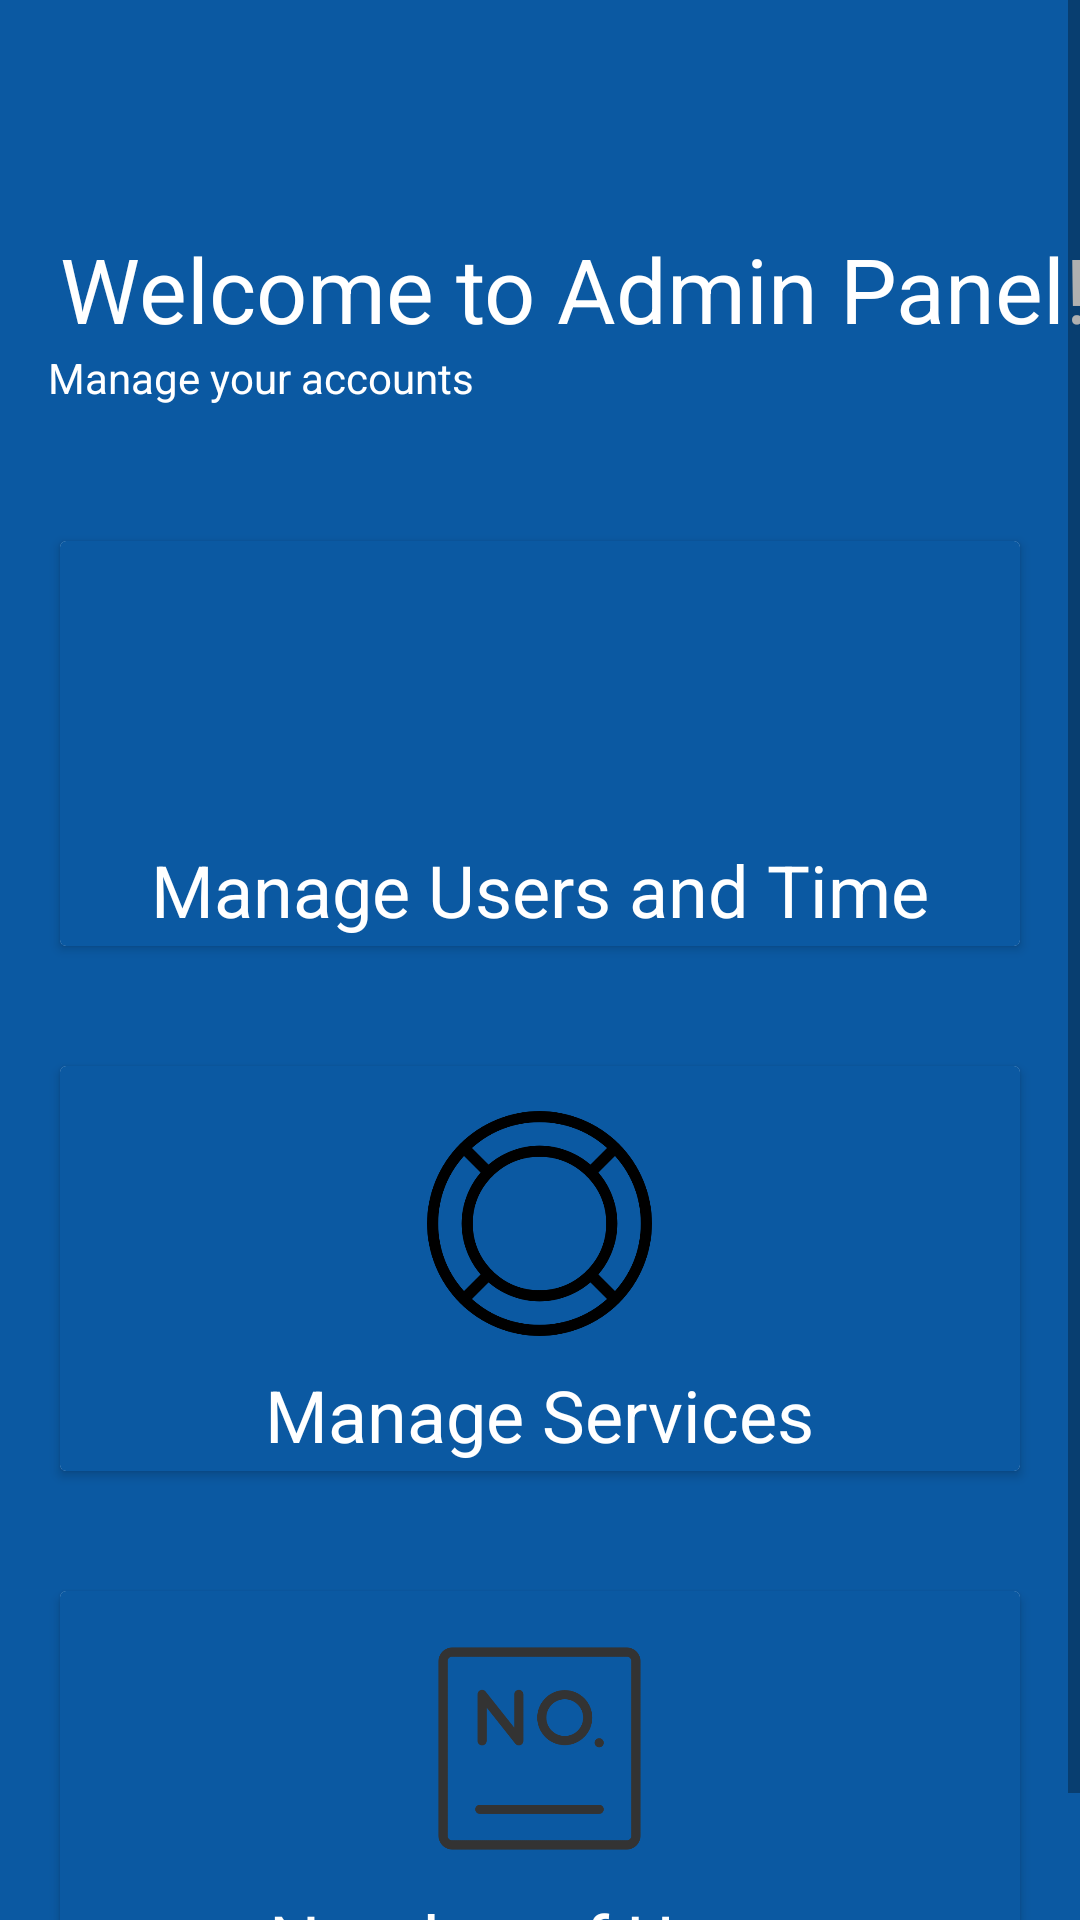

Icon click points for this 1080px x 1920px phone screenshot, format (x=x, y=y):
noofguards: (x=539, y=1748)
